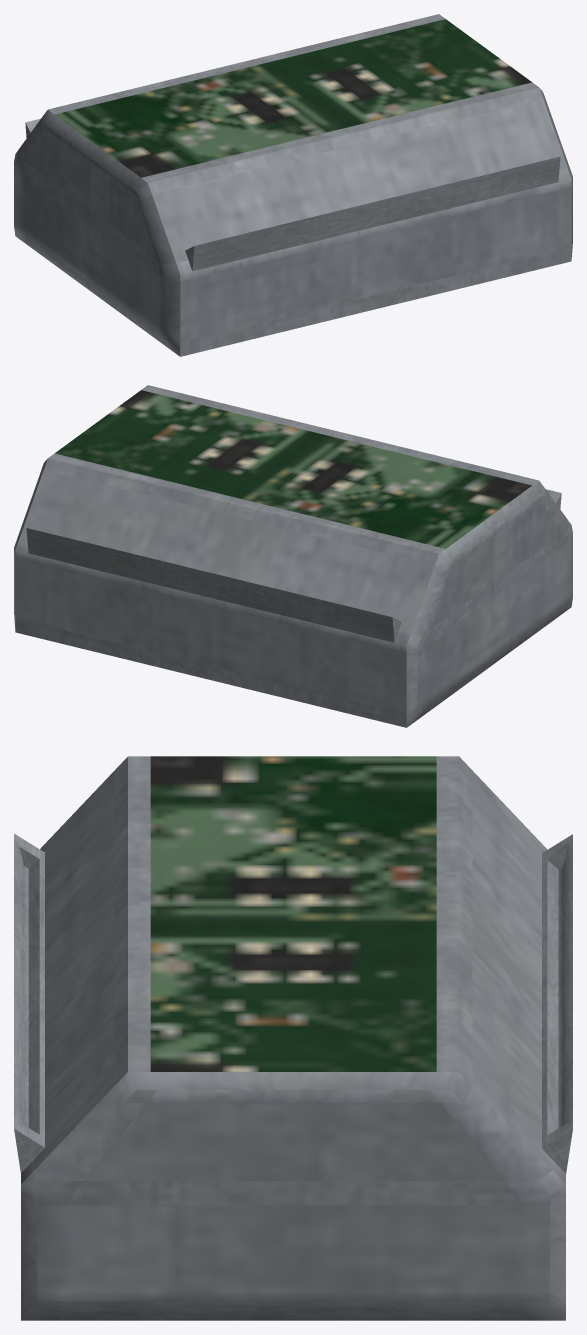
File: Wire Box.fbx
The picture shows the model from 3 angles, top to bottom: view 1: azimuth 30°, elevation 25°; view 2: azimuth 150°, elevation 25°; view 3: azimuth 270°, elevation 25°; orthographic projection. The views are drawn at different scales.
Parts seen in each view (by area): view 1: Box014; view 2: Box014; view 3: Box014.
Boxes of the visible parts, bbox=[...] form: Box014: bbox=[14, 14, 572, 356]; Box014: bbox=[14, 385, 572, 727]; Box014: bbox=[14, 756, 572, 1320].
Size of the model in its own units: 53.74 by 19.12 by 38.97.
1 material, 1 textured.
